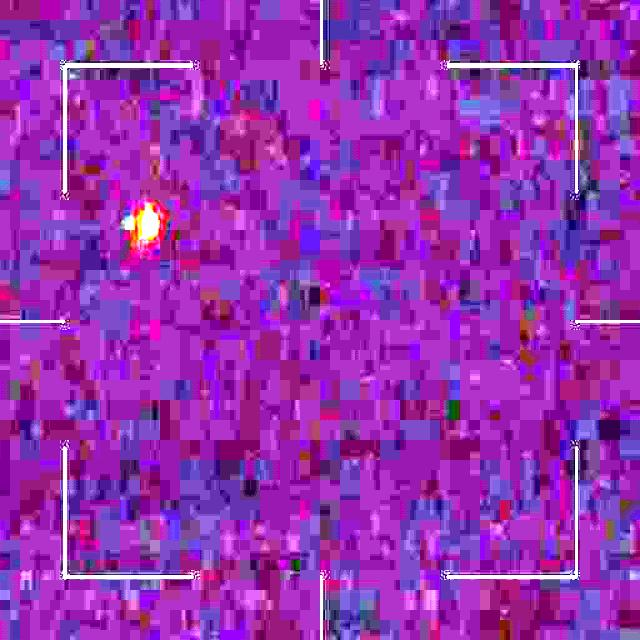bird: (125, 202, 162, 250)
